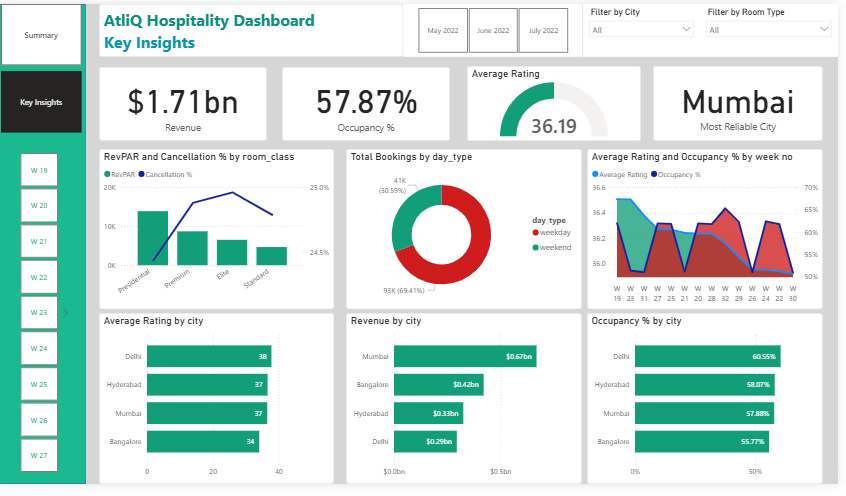

The dashboard page shown, as its layout file describes it:
{"tool":"powerbi","page":{"name":"Key Insights","canvas":[1400,800],"ordinal":1},"visuals":[{"type":"slicer","fields":{"Values":["dim_hotels.city"]},"box":[974.8,0,195.3,88.2],"z":0},{"type":"slicer","fields":{"Values":["dim_rooms.room_class"]},"box":[1170.1,0,229.9,88.2],"z":1000},{"type":"slicer","fields":{"Values":["dim_date.mmm yy"]},"box":[675.6,0,299.2,88.2],"z":2000},{"type":"shape","box":[0,0,146.2,800],"z":3000},{"type":"textbox","box":[168.5,0,507.1,88.2],"z":4000},{"type":"slicer","fields":{"Values":["dim_date.week no"]},"box":[11.7,241.7,111.7,545],"z":5000},{"type":"card","fields":{"Values":["_Measures.Revenue"]},"box":[168.3,105,280,123.3],"z":6000},{"type":"card","fields":{"Values":["_Measures.Occupancy %"]},"box":[473.3,105,280,123.3],"z":7000},{"type":"gauge","fields":{"Y":["_Measures.Average Rating"]},"box":[781.7,103.3,290,125],"z":8000},{"type":"clusteredBarChart","fields":{"Category":["dim_hotels.city"],"Y":["_Measures.Average Rating"]},"box":[168.3,515,391.7,285],"z":9000},{"type":"card","fields":{"Values":["Min(dim_hotels.city)"]},"box":[1091.7,103.3,283.3,125],"z":10000},{"type":"clusteredBarChart","fields":{"Category":["dim_hotels.city"],"Y":["_Measures.Revenue"]},"box":[580,515,393.3,285],"z":11000},{"type":"clusteredBarChart","fields":{"Category":["dim_hotels.city"],"Y":["_Measures.Occupancy %"]},"box":[981.7,515,393.3,285],"z":12000},{"type":"areaChart","fields":{"Category":["dim_date.week no"],"Y":["_Measures.Average Rating"],"Y2":["_Measures.Occupancy %"]},"box":[981.7,241.7,393.3,266.7],"z":13000},{"type":"lineStackedColumnComboChart","fields":{"Category":["dim_rooms.room_class"],"Y":["_Measures.RevPAR"],"Y2":["_Measures.Cancellation %"]},"box":[168.3,241.7,391.7,266.7],"z":14000},{"type":"donutChart","fields":{"Category":["dim_date.day_type"],"Y":["_Measures.Total Bookings"]},"box":[580,241.7,393.3,266.7],"z":15000},{"type":"pageNavigator","box":[5.7,0,134.3,215.7],"z":16000}]}

Visuals, with their boxes in screenshot pixels (x1, y1, x2, y2), scaled from the page's 1400x800 canvas onto the 846x496 screenshot:
slicer - dim_hotels.city: [589,0,707,55]
slicer - dim_rooms.room_class: [707,0,845,55]
slicer - dim_date.mmm yy: [408,0,589,55]
shape: [0,0,88,495]
textbox: [102,0,408,55]
slicer - dim_date.week no: [7,150,75,488]
card - _Measures.Revenue: [102,65,271,142]
card - _Measures.Occupancy %: [286,65,455,142]
gauge - _Measures.Average Rating: [472,64,648,142]
clusteredBarChart - dim_hotels.city x _Measures.Average Rating: [102,319,338,495]
card - Min(dim_hotels.city): [660,64,831,142]
clusteredBarChart - dim_hotels.city x _Measures.Revenue: [350,319,588,495]
clusteredBarChart - dim_hotels.city x _Measures.Occupancy %: [593,319,831,495]
areaChart - dim_date.week no x _Measures.Average Rating: [593,150,831,315]
lineStackedColumnComboChart - dim_rooms.room_class x _Measures.RevPAR: [102,150,338,315]
donutChart - dim_date.day_type x _Measures.Total Bookings: [350,150,588,315]
pageNavigator: [3,0,85,134]
